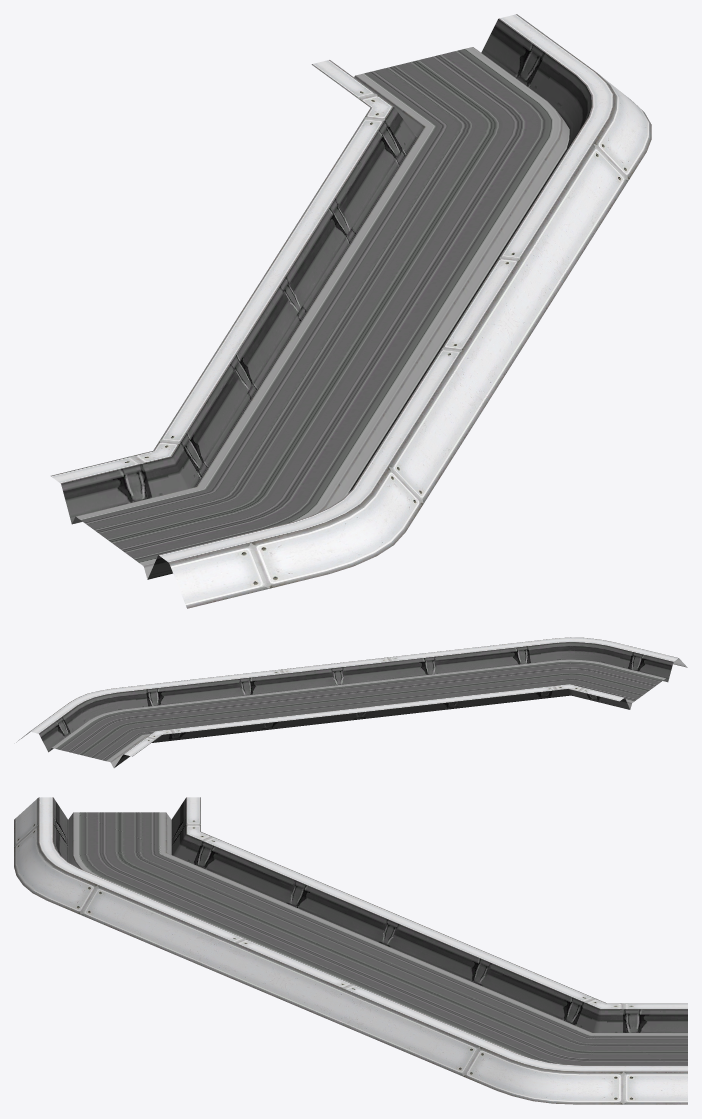
Rendered from Ground_Trim_DockCorner.FBX.
The picture shows the model from 3 angles, top to bottom: view 1: azimuth 30°, elevation 25°; view 2: azimuth 150°, elevation 25°; view 3: azimuth 270°, elevation 25°; orthographic projection. The views are drawn at different scales.
Parts seen in each view (by area): view 1: Ground_Trim_DockCorner; view 2: Ground_Trim_DockCorner; view 3: Ground_Trim_DockCorner.
Part boxes in pixels (x1=…): Ground_Trim_DockCorner: x1=51, y1=14, x2=651, y2=608; Ground_Trim_DockCorner: x1=16, y1=637, x2=687, y2=767; Ground_Trim_DockCorner: x1=14, y1=797, x2=687, y2=1104.
Bounding box in the file's own units: 4.15 × 0.152 × 4.15.
